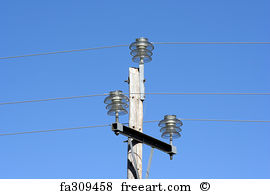isolator: (104, 92, 129, 117), (129, 40, 154, 64), (158, 118, 183, 140)
